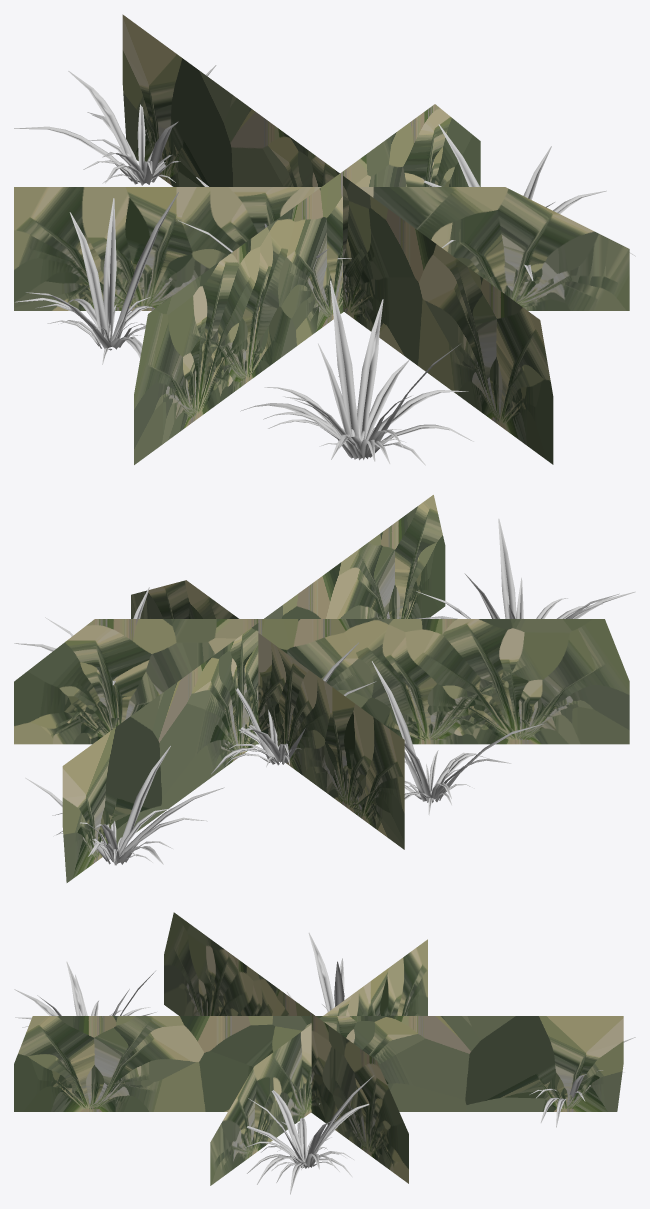
The model's file is PW_Grass_01_02.fbx.
The picture shows the model from 3 angles, top to bottom: view 1: azimuth 30°, elevation 25°; view 2: azimuth 150°, elevation 25°; view 3: azimuth 270°, elevation 25°; orthographic projection. The views are drawn at different scales.
Parts seen in each view (by area): view 1: Billboard, LOD0; view 2: Billboard, LOD0; view 3: Billboard, LOD0.
Part boxes in pixels (x1,y1,x2,y2): Billboard: [14, 14, 629, 464]; LOD0: [14, 65, 635, 465]; Billboard: [14, 495, 629, 882]; LOD0: [14, 518, 635, 865]; Billboard: [14, 912, 623, 1185]; LOD0: [14, 932, 635, 1194].
Size of what is drawn, in the model's own units: 59.81 by 13.83 by 77.33.
